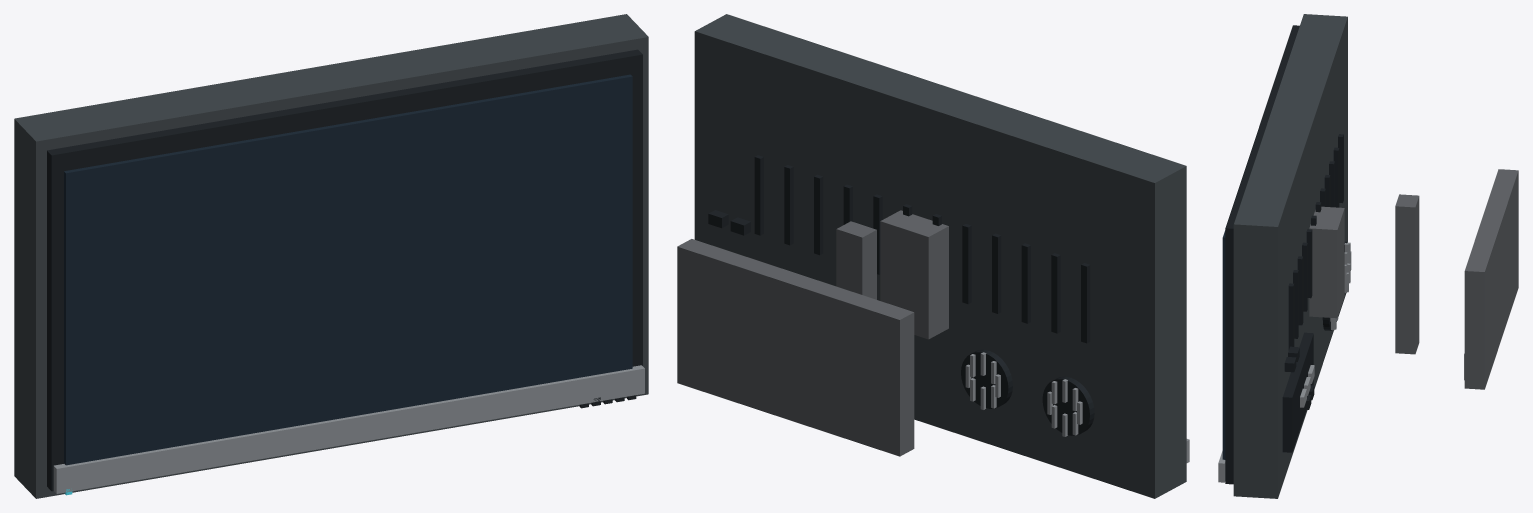
File: monitor.glb
3 views of the same model, side by side, from view 1: azimuth 30°, elevation 25°; view 2: azimuth 150°, elevation 25°; view 3: azimuth 270°, elevation 25° (orthographic). The views are drawn at different scales.
Parts seen in each view (by area): view 1: world; view 2: world; view 3: world.
Boxes of the visible parts, bbox=[...] form: world: bbox=[14, 14, 648, 498]; world: bbox=[677, 14, 1189, 498]; world: bbox=[1218, 14, 1518, 498].
Bounding box in the file's own units: 0.6216 × 0.37 × 0.3703.
